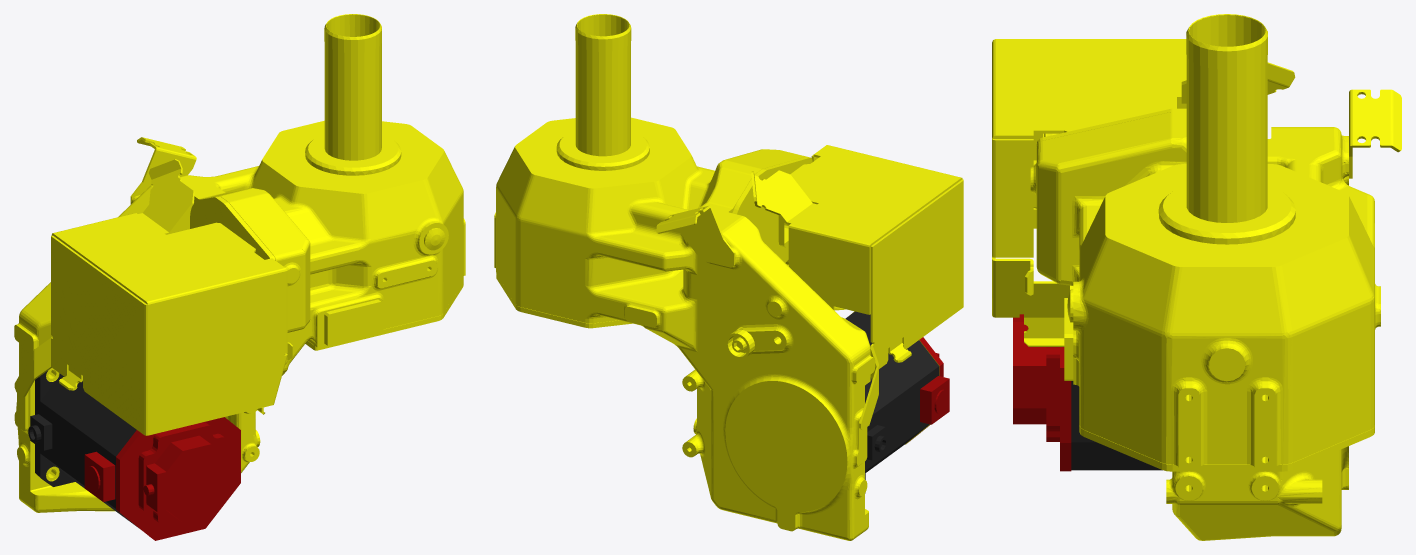
3 views of the same model, side by side, from view 1: azimuth 30°, elevation 25°; view 2: azimuth 150°, elevation 25°; view 3: azimuth 270°, elevation 25° (orthographic). The views are drawn at different scales.
Visible parts, largest first — view 1: node; view 2: node; view 3: node.
Part boxes in pixels (left/top/right/bottom): node: left=14, top=14, right=465, bottom=540; node: left=494, top=14, right=963, bottom=540; node: left=992, top=14, right=1401, bottom=540.
Size of the model in its own units: 433 by 453 by 269.
